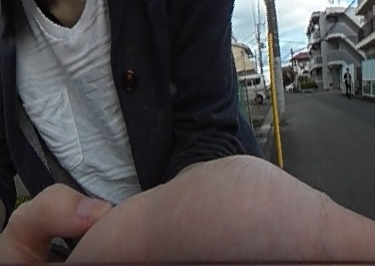person: (342, 65, 355, 97)
